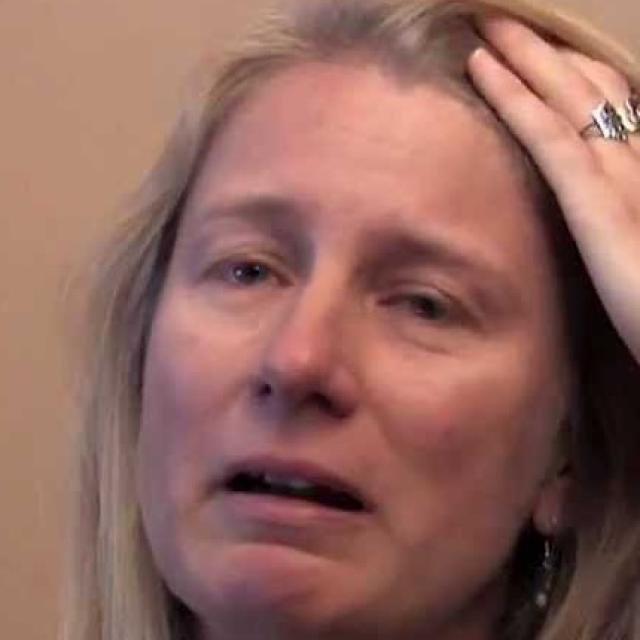Depress: (134, 69, 582, 638)
